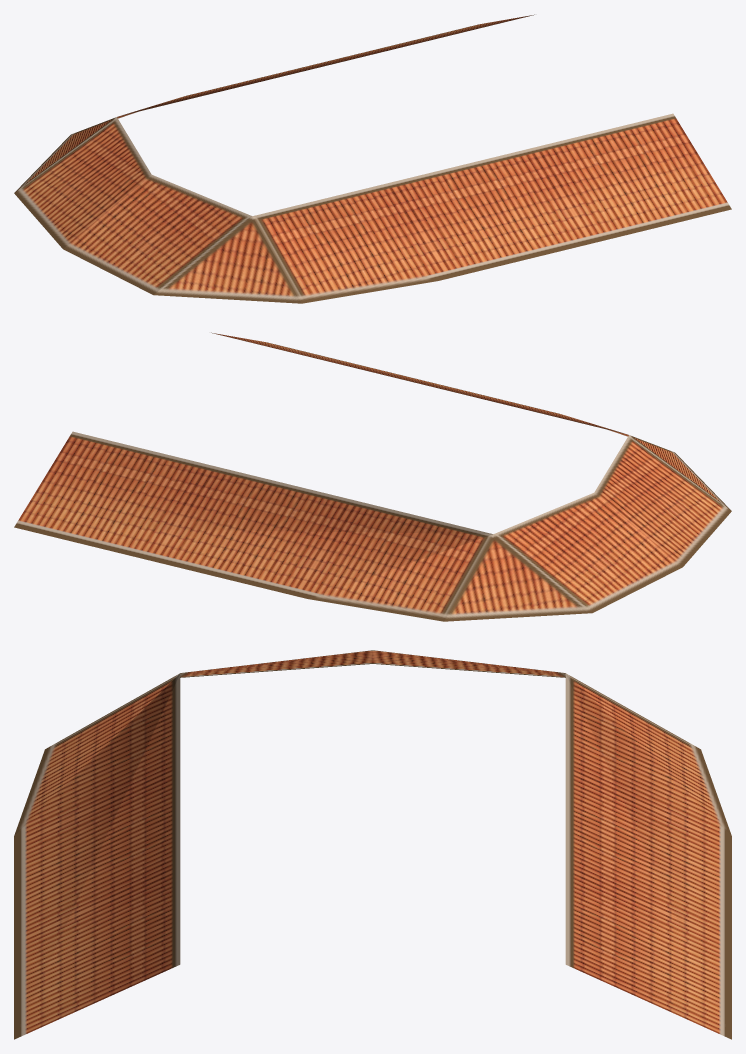
The model's file is VomU.glb.
The picture shows the model from 3 angles, top to bottom: view 1: azimuth 30°, elevation 25°; view 2: azimuth 150°, elevation 25°; view 3: azimuth 270°, elevation 25°; orthographic projection. The views are drawn at different scales.
Parts seen in each view (by area): view 1: Object_4.002; view 2: Object_4.002; view 3: Object_4.002.
Boxes of the visible parts, x1,y1,x2,y2 form: Object_4.002: (14, 14, 731, 303); Object_4.002: (14, 332, 731, 621); Object_4.002: (14, 650, 731, 1039).
Size of the model in its own units: 1.03 by 0.096 by 0.8304.
Materials: 1 (1 with a texture image).
